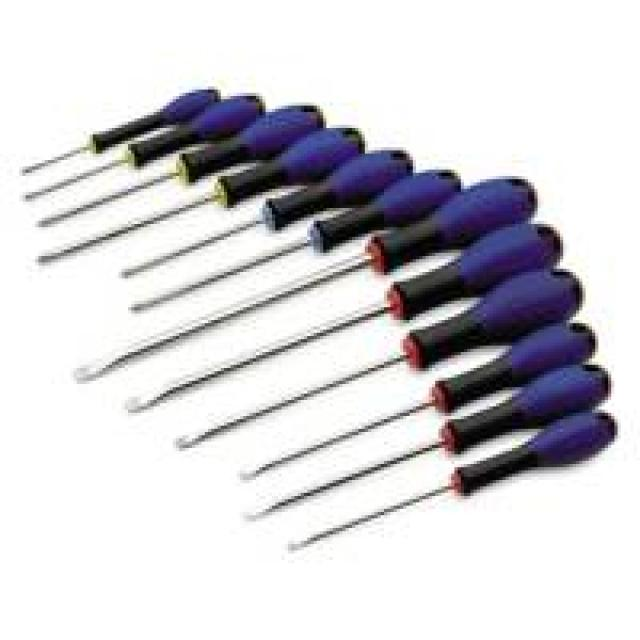screw driver: (20, 93, 276, 231)
